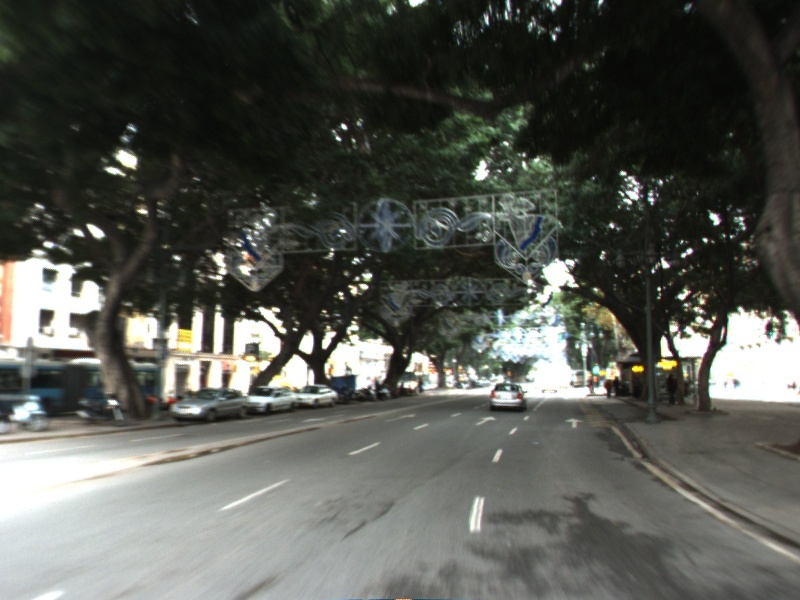STRAIGHT: (382, 412, 418, 424), (472, 413, 499, 427), (562, 415, 587, 430)
